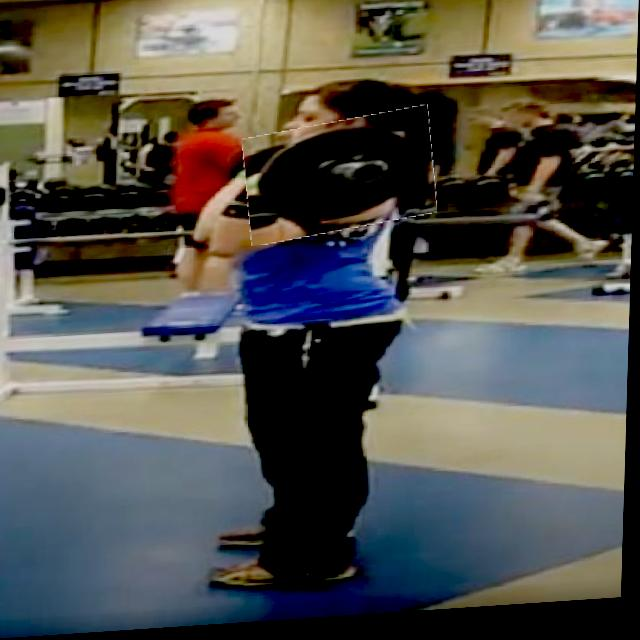barbell: (245, 117, 440, 246)
